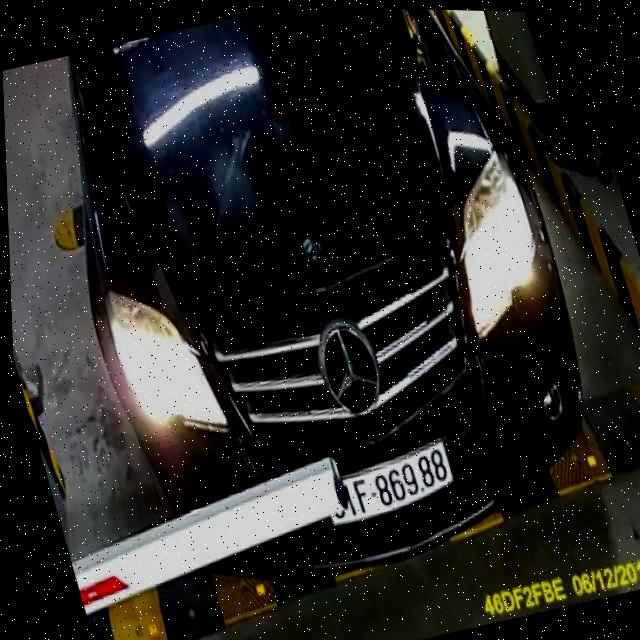car: (9, 0, 636, 633)
plate: (309, 439, 476, 532)
